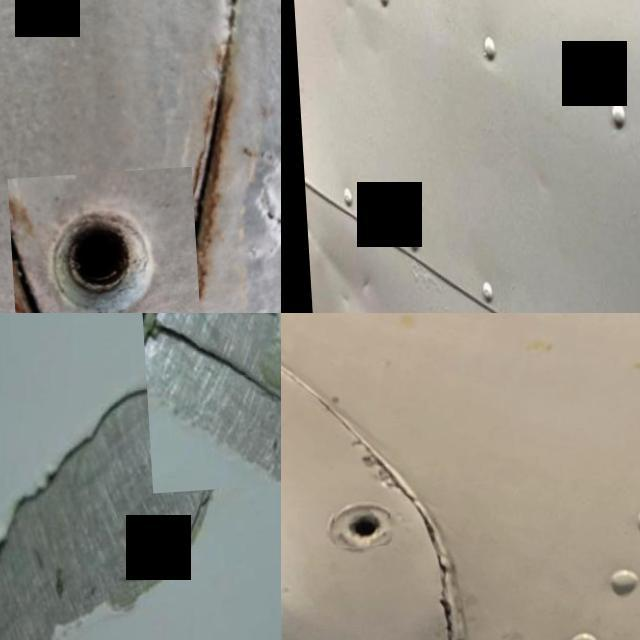Crack: (140, 313, 281, 497), (402, 471, 490, 640)
Dent: (300, 210, 339, 280), (525, 171, 546, 202), (353, 276, 367, 297), (337, 0, 353, 18), (331, 290, 345, 310)
Missing_Fastener: (3, 172, 195, 313), (329, 507, 387, 552)
